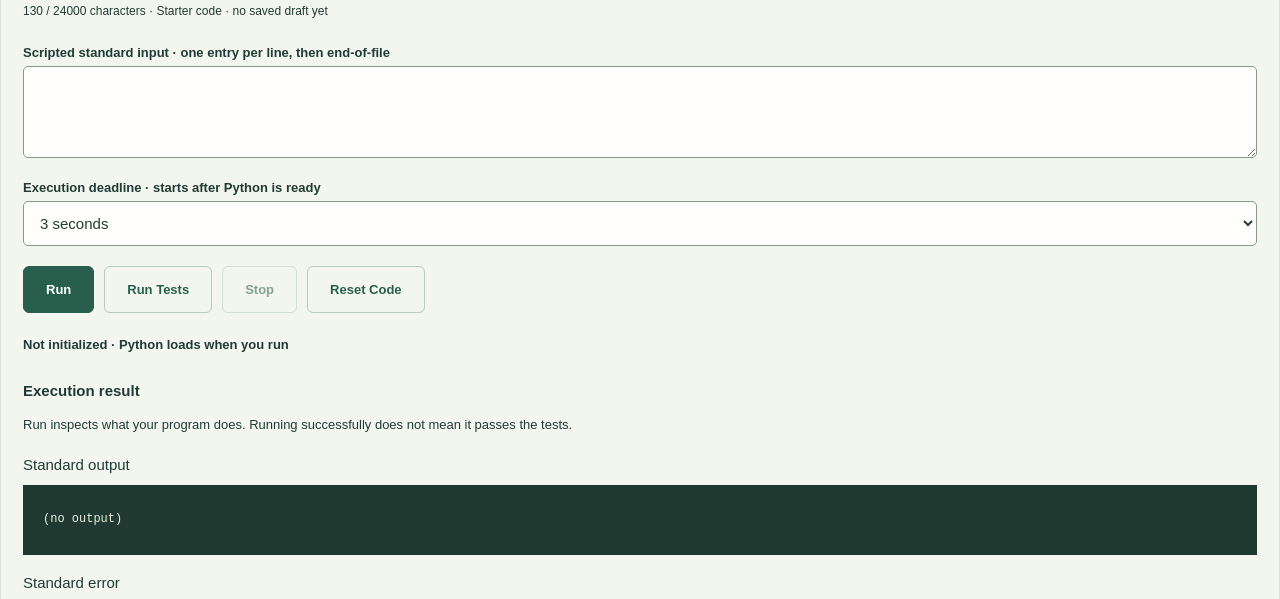
instructional Code Lab › ignores a successful response returned after cancellation
(page scrolled)
Click the button "Run Tests": (158, 290) [104,266,212,313]
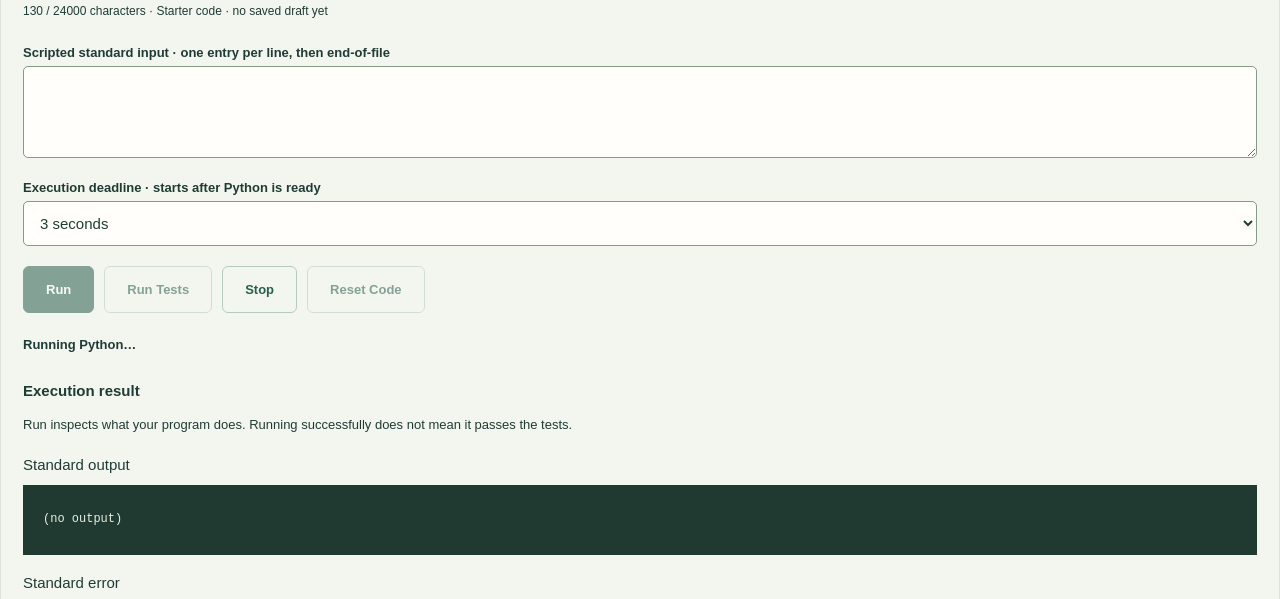
Click the button "Stop": (260, 290) [222,266,297,313]
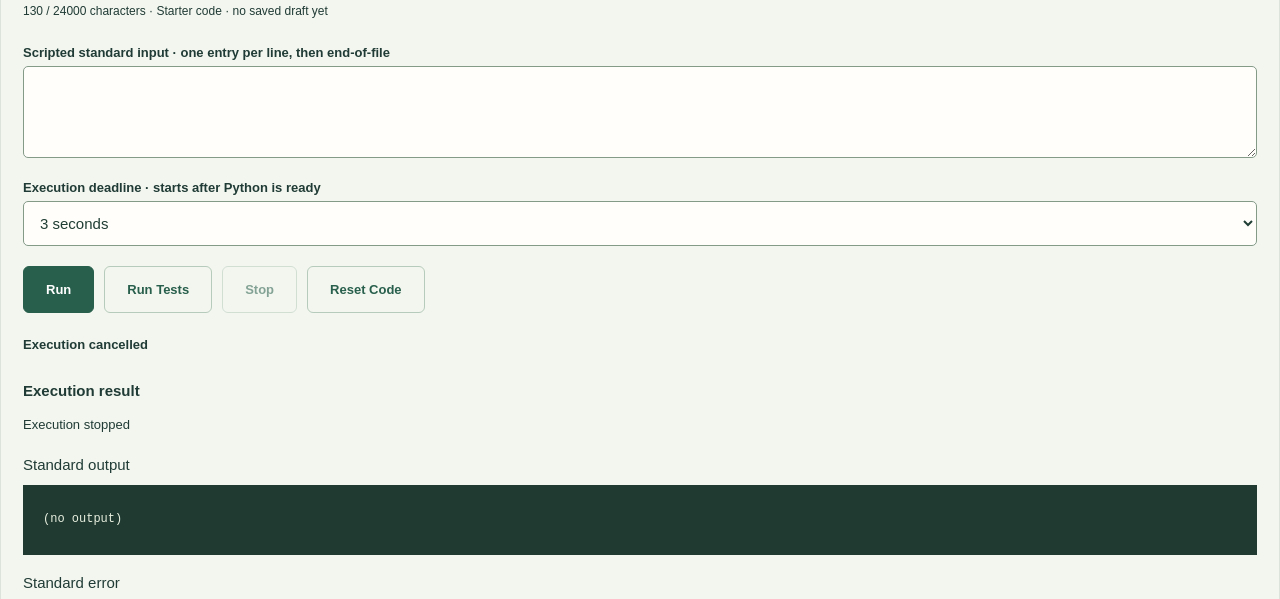
Check: the text "Execution cancelled" is shown, box [23,337,148,352]
